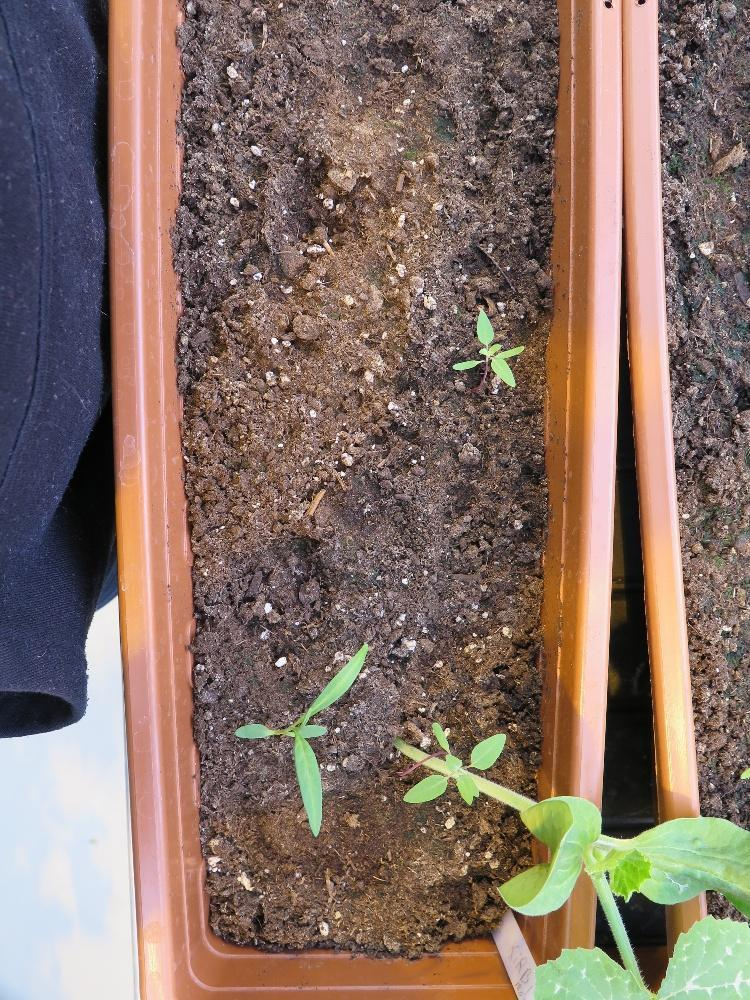weed: (230, 638, 368, 847), (449, 305, 526, 394)
